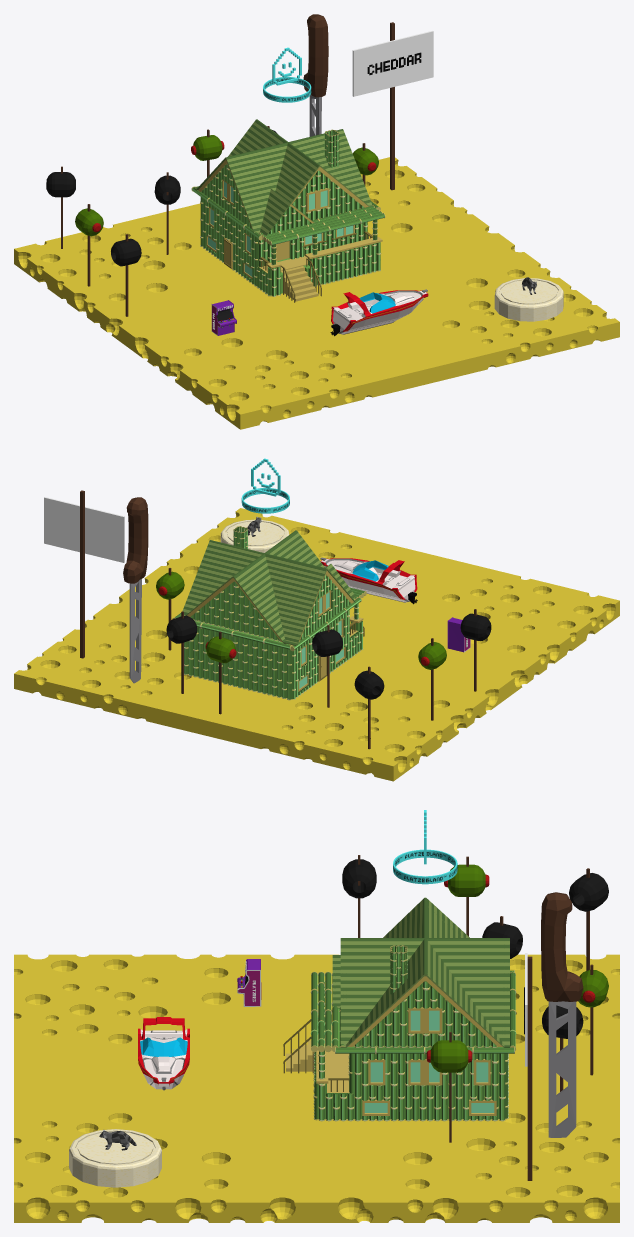
3 views of the same model, one above another, from view 1: azimuth 30°, elevation 25°; view 2: azimuth 150°, elevation 25°; view 3: azimuth 270°, elevation 25° (orthographic). The views are drawn at different scales.
Visible parts, largest first — view 1: Cube.022, Cube.1327, Cube.023, VEHICLES_BOAT, Cylinder.016, Cube.024, TYPE_PREMIUM, Sphere.017, Sphere.018, Sphere.016, Sphere.020, OBJRANDOM_ARCADE (+2 smaller); view 2: Cube.022, Cube.1327, Cube.023, Cube.024, VEHICLES_BOAT, Cylinder.016, TYPE_PREMIUM, Sphere.021, Sphere.017, Sphere.020, Sphere.022, Sphere.016 (+3 smaller); view 3: Cube.022, Cube.1327, Cube.024, Cylinder.016, VEHICLES_BOAT, Cube.023, Sphere.019, Sphere.016, TYPE_PREMIUM, Sphere.017, Sphere.018, Sphere.022 (+3 smaller).
Boxes of the visible parts, <box> form: Cube.022: <box>14,157,619,429</box>; Cube.1327: <box>191,119,385,302</box>; Cube.023: <box>352,22,433,190</box>; VEHICLES_BOAT: <box>330,289,428,336</box>; Cylinder.016: <box>494,278,563,321</box>; Cube.024: <box>303,14,328,136</box>; TYPE_PREMIUM: <box>263,47,311,102</box>; Sphere.017: <box>111,234,141,316</box>; Sphere.018: <box>75,204,103,286</box>; Sphere.016: <box>46,166,75,248</box>; Sphere.020: <box>154,172,180,254</box>; OBJRANDOM_ARCADE: <box>211,300,236,335</box>; Cube.022: <box>14,508,619,781</box>; Cube.1327: <box>172,526,366,700</box>; Cube.023: <box>44,490,124,658</box>; Cube.024: <box>123,497,148,683</box>; VEHICLES_BOAT: <box>320,557,417,604</box>; Cylinder.016: <box>220,519,289,552</box>; TYPE_PREMIUM: <box>241,458,289,513</box>; Sphere.021: <box>166,611,197,693</box>; Sphere.017: <box>460,609,491,691</box>; Sphere.020: <box>312,625,342,707</box>; Sphere.022: <box>205,631,236,714</box>; Sphere.016: <box>354,666,384,749</box>; Cube.022: <box>14,954,619,1222</box>; Cube.1327: <box>283,897,516,1121</box>; Cube.024: <box>541,892,583,1137</box>; Cylinder.016: <box>69,1129,161,1187</box>; VEHICLES_BOAT: <box>138,1017,189,1090</box>; Cube.023: <box>524,953,532,1180</box>; Sphere.019: <box>426,1032,472,1142</box>; Sphere.016: <box>569,868,608,970</box>; TYPE_PREMIUM: <box>393,810,457,884</box>; Sphere.017: <box>342,855,376,937</box>; Sphere.018: <box>444,856,489,936</box>; Sphere.022: <box>578,964,608,1075</box>.
Bounding box in the file's own units: 3917 × 2240 × 4000.
Materials: 37 (5 with a texture image).
